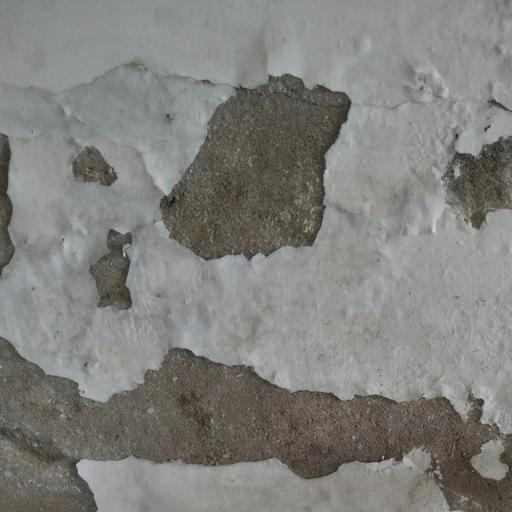peeling: (0, 319, 512, 512), (144, 34, 369, 272), (424, 107, 512, 248), (72, 211, 154, 319), (52, 128, 139, 200), (0, 108, 30, 290)
